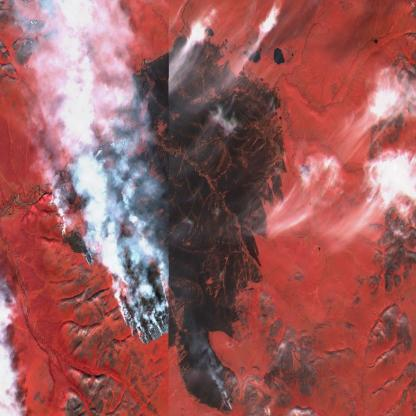fire: (52, 182, 168, 354)
